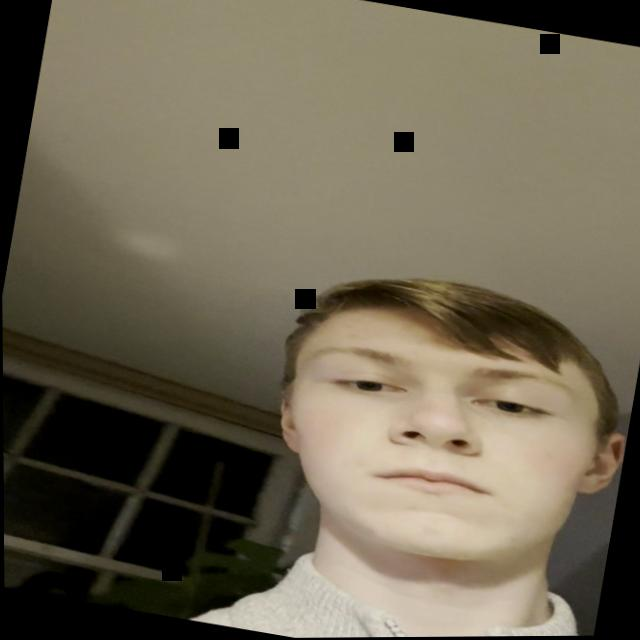NO-Mask: (241, 245, 640, 632)
